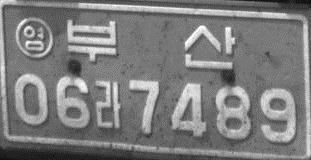0: (13, 72, 48, 126)
4: (171, 83, 207, 136)
6: (54, 74, 91, 130)
7: (127, 79, 160, 136)
8: (214, 84, 252, 140)
9: (259, 87, 298, 144)
라: (93, 79, 122, 129)
부산_D: (64, 18, 236, 69)
영: (14, 15, 53, 59)
